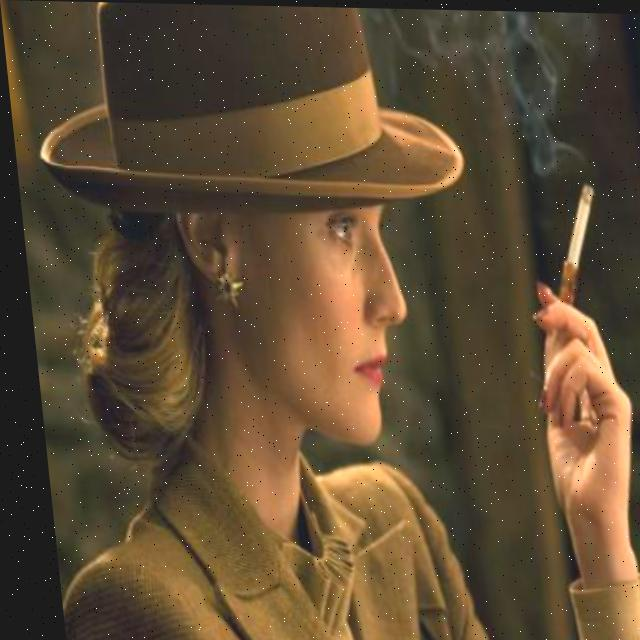cigarette: (551, 179, 598, 267)
